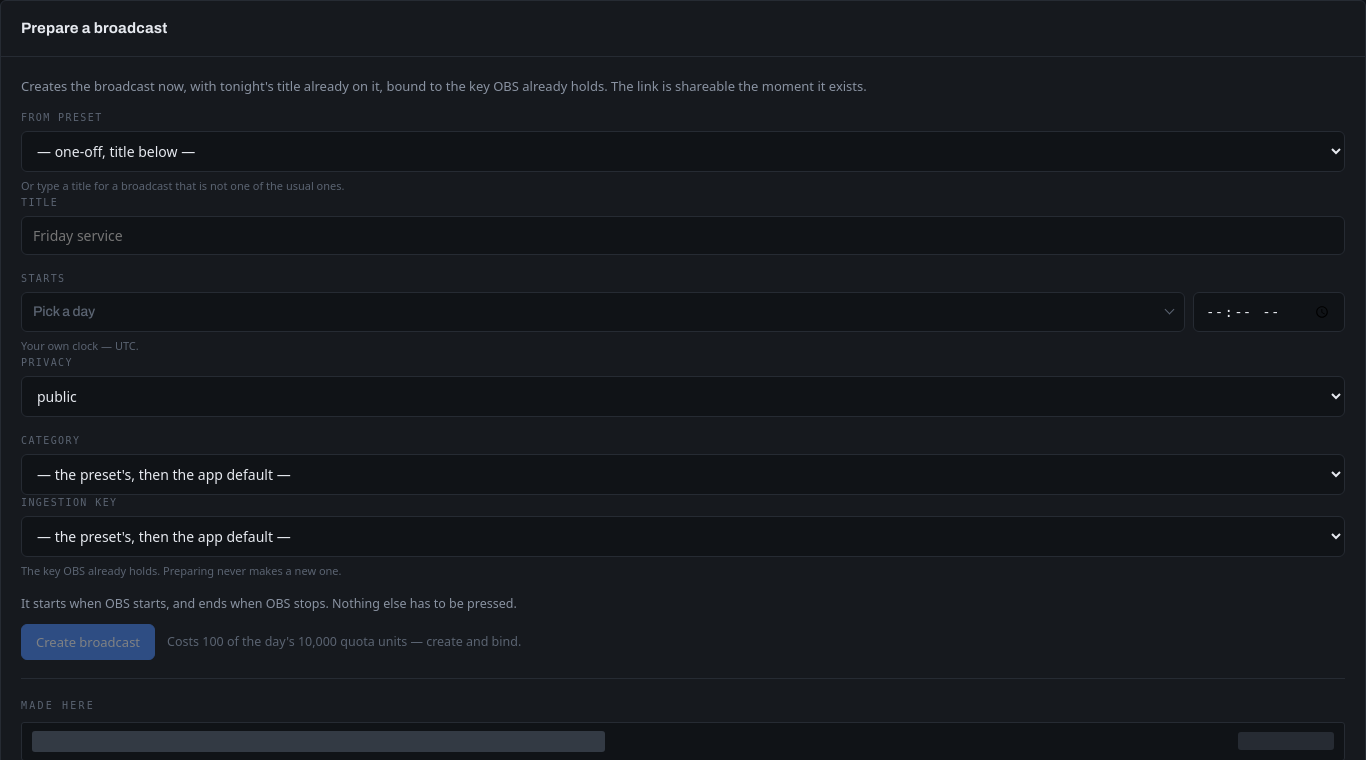
Test: PrepareBroadcast › says so plainly when the cleanup finds nothing of ours to remove
The image size is (1366, 760).
Select "Friday service" in the dropdown labelled "From preset" at [683, 152], box [21,131,1345,172]
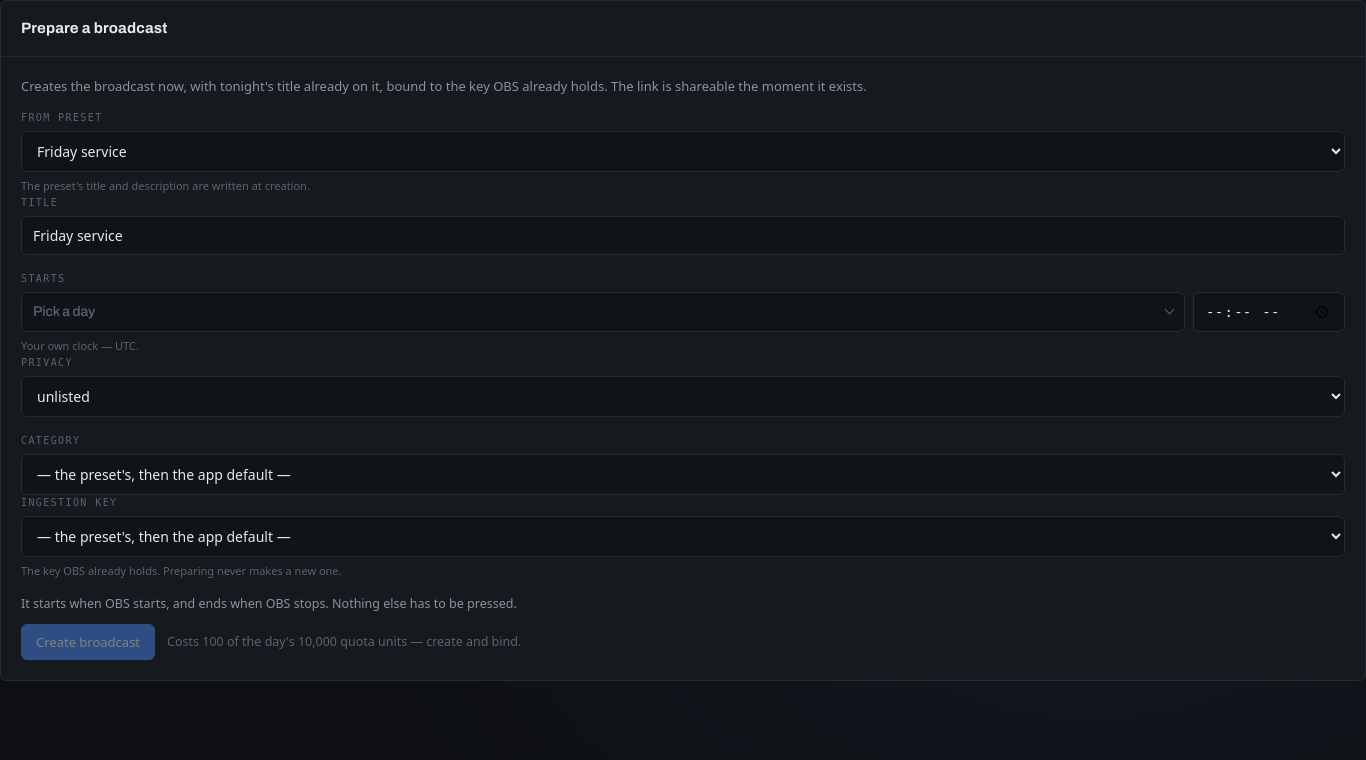
Click the button named "Starts ".
click(64, 312)  # box [21,292,1185,332]
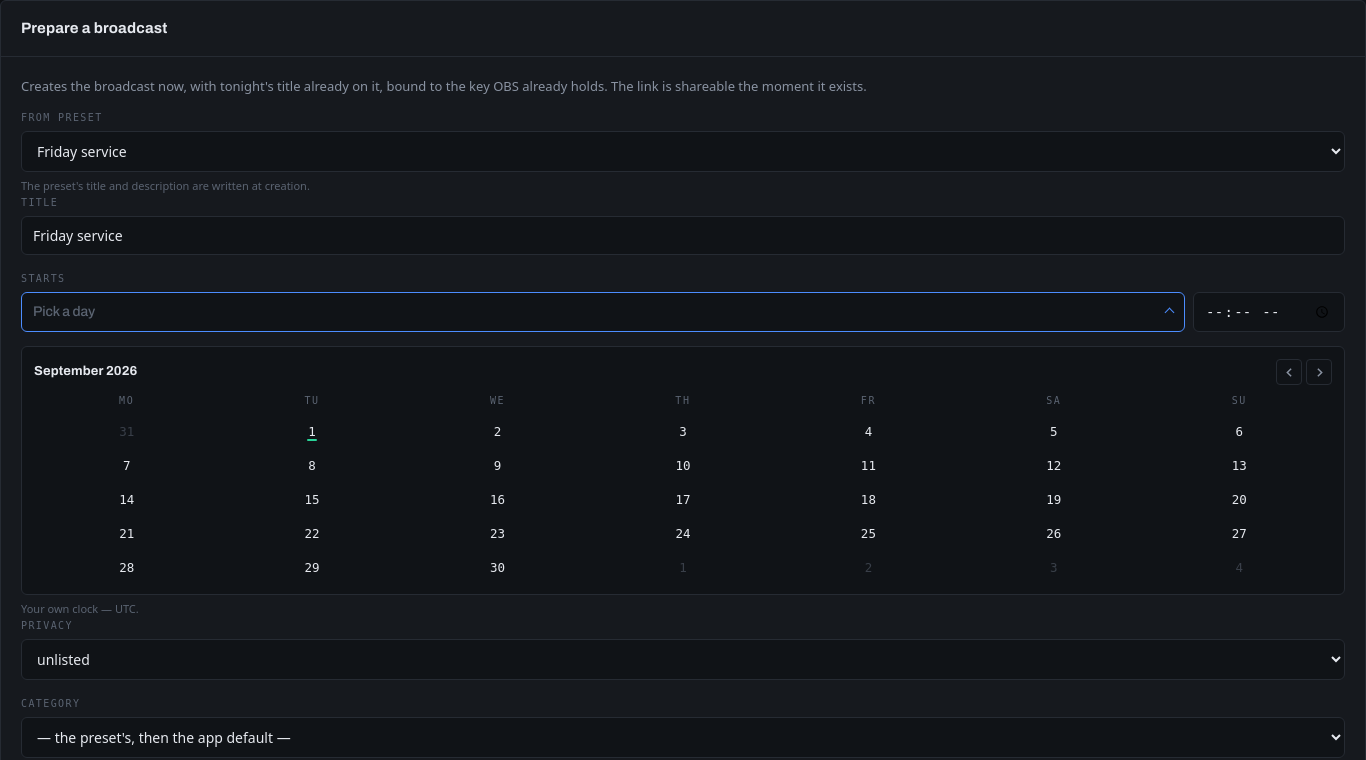
Click the button named "Friday, September 4th, 2026".
click(868, 431)  # box [777,415,960,447]
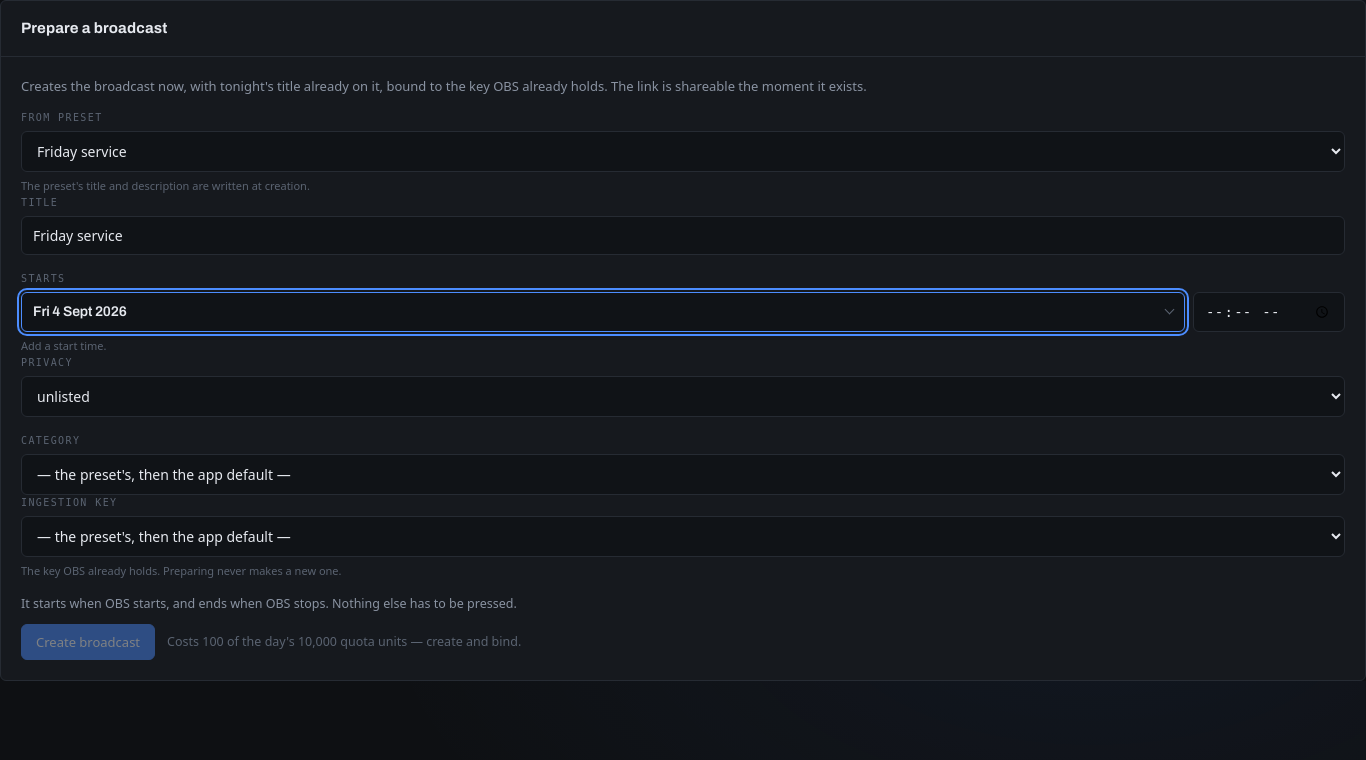
Type "19:00" into the time field named "Starts — time of day".
click(1269, 312); type("19:00")  # box [1193,292,1345,332]
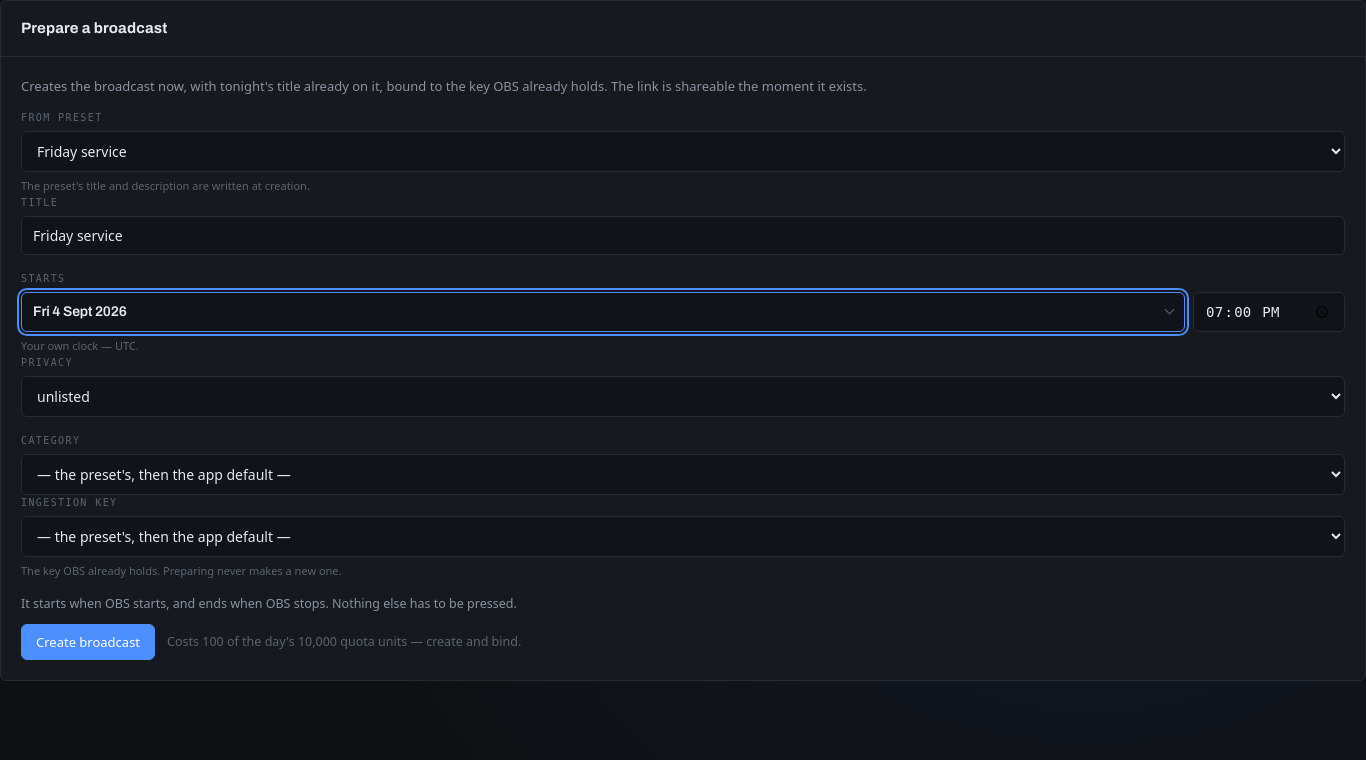
Click the button "Create broadcast".
click(88, 642)  # box [21,624,155,660]
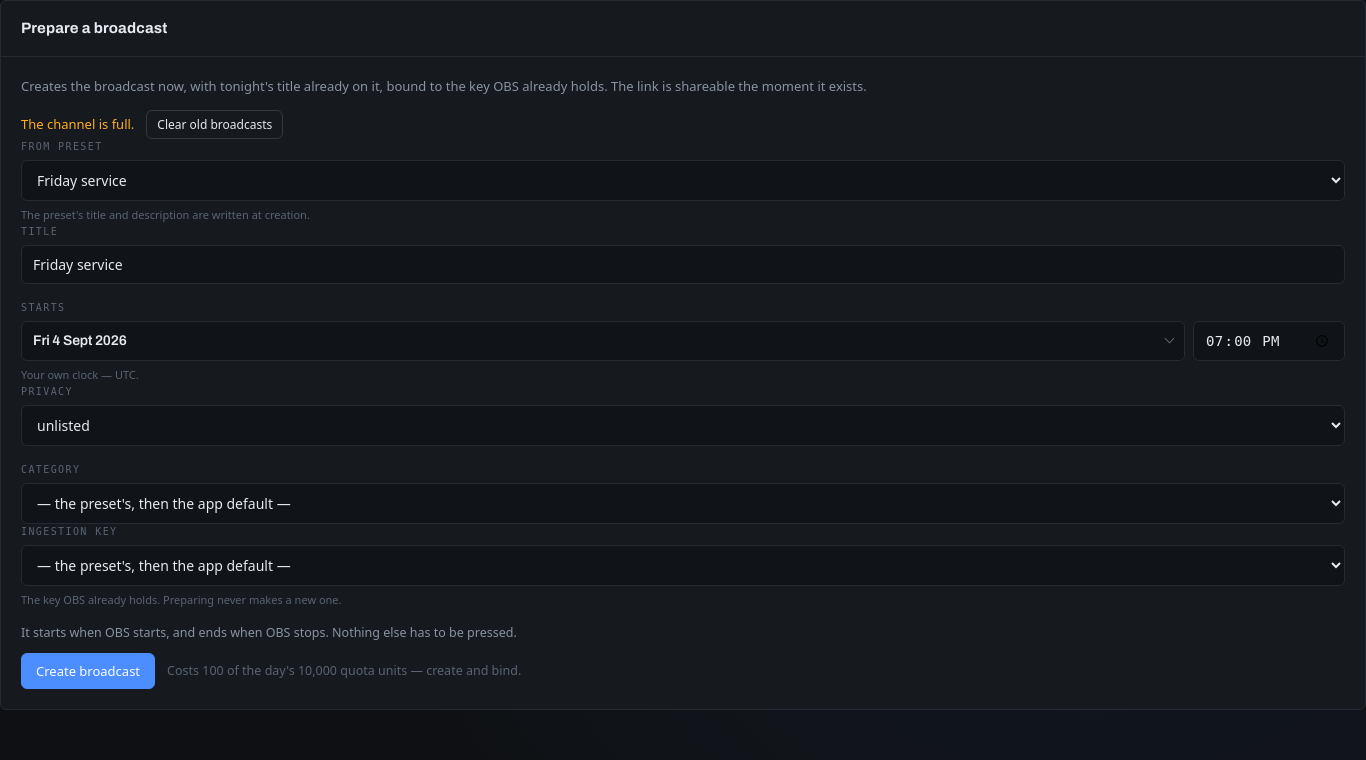
Click the button "Clear old broadcasts".
click(215, 124)  # box [146,110,283,139]
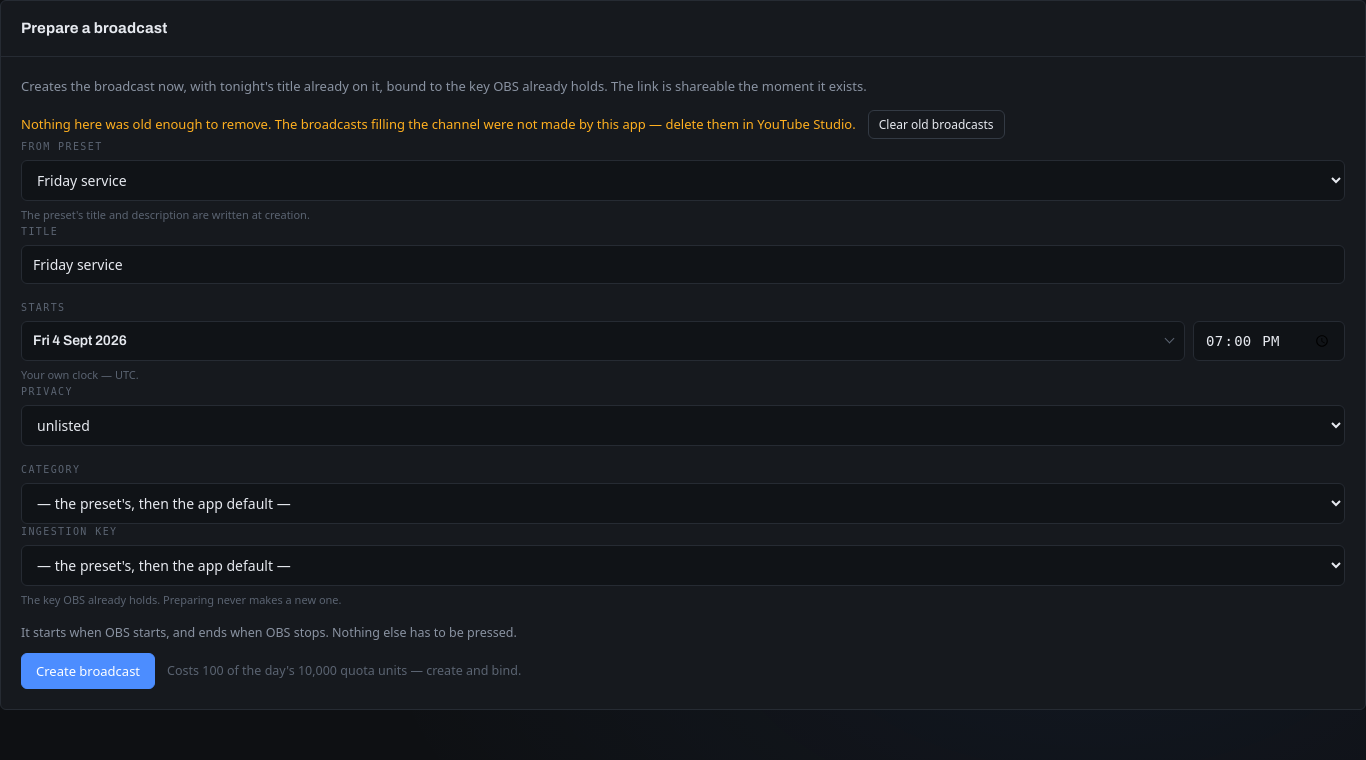
Now the text "YouTube Studio" is shown, box [21,115,856,133]
